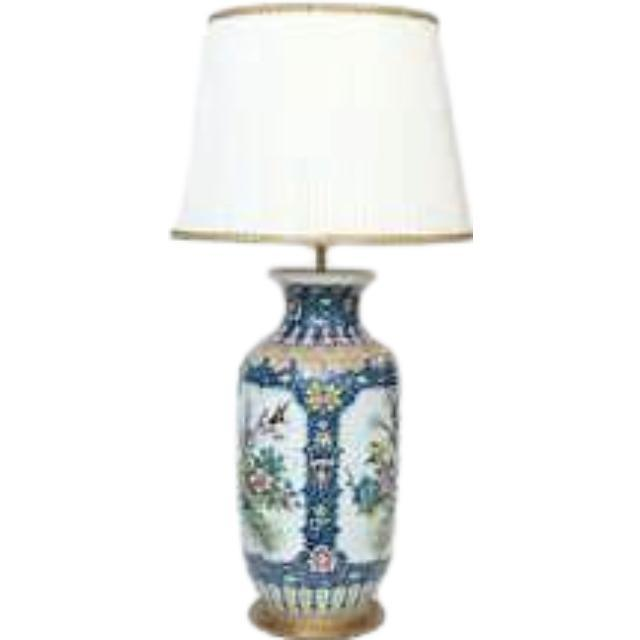lamp: (173, 0, 472, 640)
